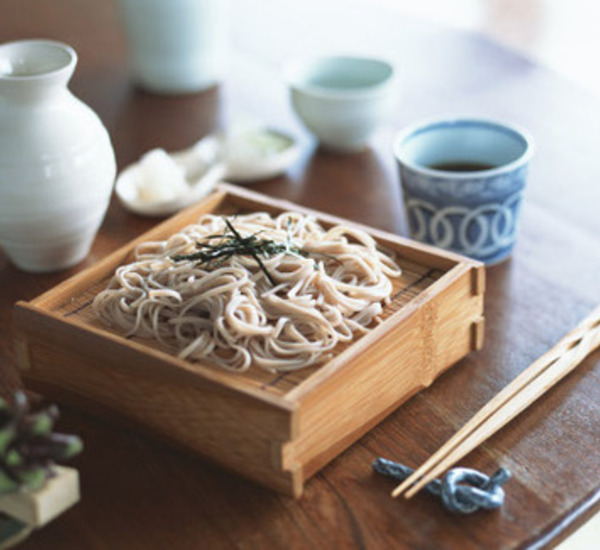Soba: (103, 205, 394, 376)
